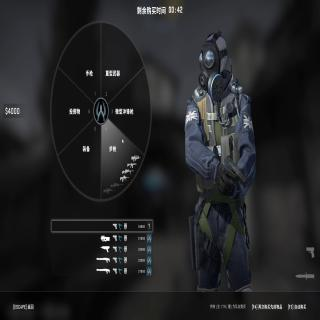CT-Head: (198, 32, 228, 98)
